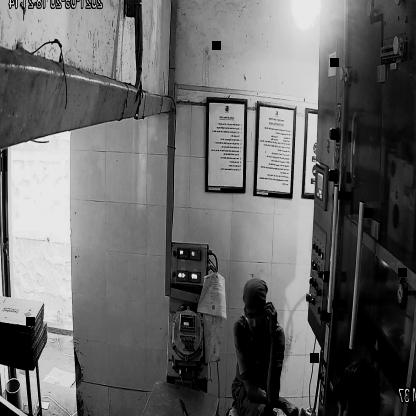goggles: (241, 306, 269, 328)
